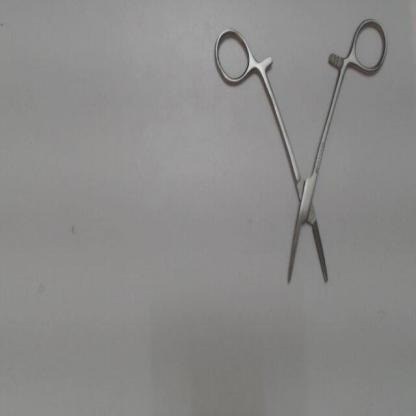Mayo Needle Holder: (206, 9, 394, 300)
